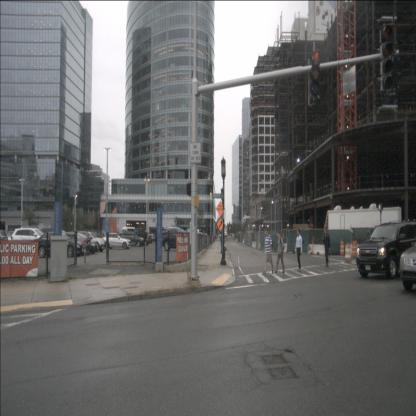barrier: (308, 244, 317, 255), (252, 241, 256, 248)
cone: (345, 243, 352, 263), (317, 244, 326, 255), (352, 240, 357, 258), (340, 241, 344, 256), (281, 243, 287, 253), (312, 238, 314, 255)
